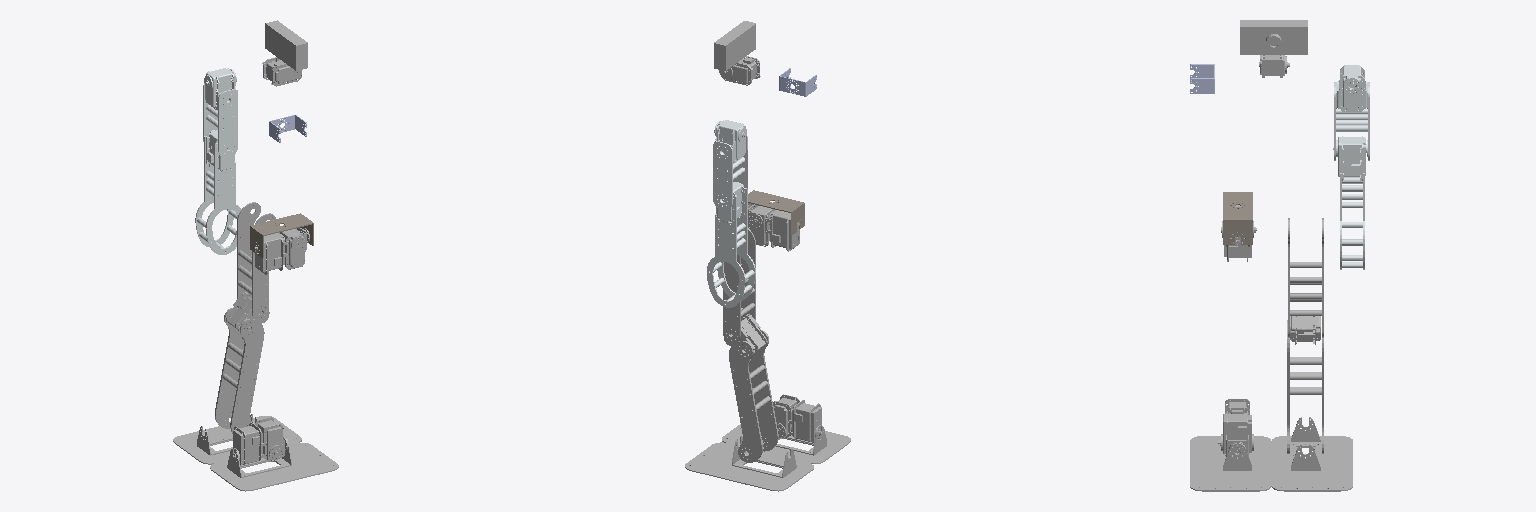
--- What the picture shows (computed from the rendered views, not written in the file) ---
3 views of the same robot in one strip: view 1: azimuth 30°, elevation 25°; view 2: azimuth 150°, elevation 25°; view 3: azimuth 270°, elevation 25° (orthographic).
Robot: SAKURA — 21 links, 20 joints (19 continuous, 1 fixed); root link base_link; default pose: every joint at zero.
Links seen in each view (by area): view 1: LLEG3, LARM2, RFOOT, LLEG2, LARM1, HEAD, RLEG4, RLEG1, LFOOT, RLEG0, RARM0; view 2: LLEG3, LARM2, LFOOT, LARM1, LLEG2, HEAD, RLEG4, RLEG1, RFOOT, RLEG0, RARM0; view 3: LFOOT, RFOOT, HEAD, LARM2, LARM1, LLEG2, RLEG0, RLEG4, LLEG3, RARM0.
Link boxes in pixels (x1,y1,x2,y2): LLEG3: (215,307,264,433); LARM2: (195,130,241,254); RFOOT: (210,439,338,491); LLEG2: (226,202,275,331); LARM1: (203,68,237,158); HEAD: (262,20,307,86); RLEG4: (232,417,287,465); RLEG1: (254,228,309,274); LFOOT: (173,414,301,464); RLEG0: (250,213,313,257); RARM0: (269,115,306,142); LLEG3: (729,329,778,462); LARM2: (707,182,755,307); LFOOT: (685,436,813,491); LARM1: (713,120,747,210); LLEG2: (723,228,767,352); HEAD: (714,21,760,85); RLEG4: (773,394,822,442); RLEG1: (748,204,799,251); RFOOT: (722,424,850,463); RLEG0: (748,190,804,235); RARM0: (779,68,816,96); LFOOT: (1272,417,1352,491); RFOOT: (1190,436,1271,491); HEAD: (1240,20,1307,77); LARM2: (1333,136,1365,269); LARM1: (1334,65,1369,160); LLEG2: (1288,218,1323,344); RLEG0: (1223,192,1252,244); RLEG4: (1218,399,1253,457); LLEG3: (1287,320,1323,453); RARM0: (1190,64,1214,93).
Bounding box of the posed robot: 0.208 × 0.291 × 0.8159 m (x, y, z).
Meshes: 20 distinct files referenced, 11 mesh visuals loaded (11 binary STL); not drawn: 9 (reference not matched to a file when rendering).

URDF robot description (SAKURA):
<?xml version="1.0"?>
<robot
  name="SAKURA">
  <gazebo>
    <plugin filename="libgazebo_ros_control.so" name="gazebo_ros_control">
      <robotNamespace>/SAKURA</robotNamespace>
    </plugin>
  </gazebo>
  <gazebo reference="J_HEAD">
	<stopErp>0.2</stopErp>
  </gazebo>  
  <gazebo reference="J_LARM0">
	<stopErp>0.2</stopErp>
  </gazebo>  
  <gazebo reference="J_LARM1">
	<stopErp>0.2</stopErp>
  </gazebo>  
  <gazebo reference="J_LARM2">
	<stopErp>0.2</stopErp>
  </gazebo>  
  <gazebo reference="J_RARM0">
	<stopErp>0.2</stopErp>
  </gazebo>  
  <gazebo reference="J_RARM1">
	<stopErp>0.2</stopErp>
  </gazebo>  
  <gazebo reference="J_LLEG0">
	<stopErp>0.2</stopErp>
  </gazebo>  
  <gazebo reference="J_LLEG1">
	<stopErp>0.2</stopErp>
  </gazebo>  
  <gazebo reference="J_LLEG2">
	<stopErp>0.2</stopErp>
  </gazebo>  
  <gazebo reference="J_LLEG3">
	<stopErp>0.2</stopErp>
  </gazebo>  
  <gazebo reference="J_LLEG4">
	<stopErp>0.2</stopErp>
  </gazebo>  
  <gazebo reference="J_RLEG0">
	<stopErp>0.2</stopErp>
  </gazebo>  
  <gazebo reference="J_RLEG1">
	<stopErp>0.2</stopErp>
  </gazebo>  
  <gazebo reference="J_RLEG2">
	<stopErp>0.2</stopErp>
  </gazebo>  
  <gazebo reference="J_RLEG3">
	<stopErp>0.2</stopErp>
  </gazebo>  
  <gazebo reference="J_RLEG4">
	<stopErp>0.2</stopErp>
  </gazebo> 
  <gazebo reference="J_RARM2">
	<stopErp>0.2</stopErp>
  </gazebo> 
  <gazebo reference="J_LFOOT">
	<stopErp>0.2</stopErp>
  </gazebo>  
  <gazebo reference="J_RFOOT">
	<stopErp>0.2</stopErp>
  </gazebo>  
  <gazebo reference="RFOOT">
    <mu1>0.2</mu1>
    <mu2>0.2</mu2>
  </gazebo>
  <gazebo reference="LFOOT">
    <mu1>0.2</mu1>
    <mu2>0.2</mu2>
  </gazebo>
  <link name="base_link">
      <origin
        xyz="0 0 0"
        rpy="0 0 0" />
  </link>
  <link
    name="TRUNK">
    <inertial>
      <origin
        xyz="-0.000142944293532541 -0.0159940135836359 0.119253638413231"
        rpy="0 0 0" />
      <mass
        value="1.4778155091901" />
      <inertia
        ixx="0.0125398154437975"
        ixy="-2.68478156217668E-06"
        ixz="-7.17353402812125E-06"
        iyy="0.016695640033345"
        iyz="0.000776177026664091"
        izz="0.01567882258573842" />
    </inertial>
    <visual>
      <origin
        xyz="0 0 0"
        rpy="0 0 0" />
      <geometry>
        <mesh
          filename="package://sakura_pkg/meshes/TRUNK.STL" />
      </geometry>
      <material
        name="">
        <color
          rgba="0.752941176470588 0.752941176470588 0.752941176470588 1" />
      </material>
    </visual>
  </link>
	<joint name="GLOBAL" type="fixed">
    <parent link="base_link"/>
    <child link="TRUNK"/>
    <origin xyz="0.039 0.03435 0.48" rpy="0 0 -1.570795"/>
  </joint>
  <link
    name="HEAD">
    <inertial>
      <origin
        xyz="-0.0038811 0.012249 0.048965"
        rpy="0 0 0" />
      <mass
        value="0.21462" />
      <inertia
        ixx="0.00010122"
        ixy="8.917E-07"
        ixz="4.6738E-06"
        iyy="9.789E-05"
        iyz="-1.8633E-05"
        izz="3.7787E-06" />
    </inertial>
    <visual>
      <origin
        xyz="0 0 0"
        rpy="0 0 0" />
      <geometry>
        <mesh
          filename="package://sakura_pkg/meshes/HEAD.STL" />
      </geometry>
      <material
        name="">
        <color
          rgba="0.75294 0.75294 0.75294 1" />
      </material>
    </visual>
    <collision>
      <origin
        xyz="0 0 0"
        rpy="0 0 0" />
      <geometry>
        <mesh
          filename="package://sakura_pkg/meshes/HEAD.STL" />
      </geometry>
    </collision>
  </link>
  <joint
    name="J_HEAD"
    type="continuous">
    <origin
      xyz="0.0016 0.01125 0.2484"
      rpy="-1.2005E-15 -9.4278E-17 -2.3904E-16" />
    <parent
      link="TRUNK" />
    <child
      link="HEAD" />
    <axis
      xyz="0 0 1" />
    <limit
      effort="0"
      velocity="0" />
  </joint>
  <link
    name="LARM0">
    <inertial>
      <origin
        xyz="4.16333634234434E-17 2.77555756156289E-17 0.0103025666414173"
        rpy="0 0 0" />
      <mass
        value="0.0066175226097181" />
      <inertia
        ixx="0"
        ixy="0"
        ixz="0"
        iyy="0"
        iyz="0"
        izz="0" />
    </inertial>
    <visual>
      <origin
        xyz="0 0 0"
        rpy="0 0 0" />
      <geometry>
        <mesh
          filename="package://sakura_pkg/meshes/LARM0.STL" />
      </geometry>
      <material
        name="">
        <color
          rgba="0.792156862745098 0.819607843137255 0.933333333333333 1" />
      </material>
    </visual>
    <collision>
      <origin
        xyz="0 0 0"
        rpy="0 0 0" />
      <geometry>
        <mesh
          filename="package://sakura_pkg/meshes/LARM0.STL" />
      </geometry>
    </collision>
  </link>
  <joint
    name="J_LARM0"
    type="continuous">
    <origin
      xyz="-0.0935 -0.038 0.209"
      rpy="1.5708 3.14159 -1.5708" />
    <parent
      link="TRUNK" />
    <child
      link="LARM0" />
    <axis
      xyz="0 0 -1" />
    <limit
      effort="0"
      velocity="0" />
  </joint>
  <link
    name="LARM1">
    <inertial>
      <origin
        xyz="-0.000203905909046856 -0.0358166170046635 -0.030724518771744"
        rpy="0 0 0" />
      <mass
        value="0.386889741732442" />
      <inertia
        ixx="0.000319462933467775"
        ixy="-7.00859671208955E-06"
        ixz="-6.33921748509821E-09"
        iyy="8.0452262350149E-05"
        iyz="6.46973244600118E-07"
        izz="0.000386423060557297" />
    </inertial>
    <visual>
      <origin
        xyz="0 0 0"
        rpy="0 0 0" />
      <geometry>
        <mesh
          filename="package://sakura_pkg/meshes/LARM1.STL" />
      </geometry>
      <material
        name="">
        <color
          rgba="0.898039215686275 0.92156862745098 0.929411764705882 1" />
      </material>
    </visual>
    <collision>
      <origin
        xyz="0 0 0"
        rpy="0 0 0" />
      <geometry>
        <mesh
          filename="package://sakura_pkg/meshes/LARM1.STL" />
      </geometry>
    </collision>
  </link>
  <joint
    name="J_LARM1"
    type="continuous">
    <origin
      xyz="-0.0308 0 0.036"
      rpy="3.1416 1.5708 0" />
    <parent
      link="LARM0" />
    <child
      link="LARM1" />
    <axis
      xyz="0 0 1" />
    <limit
      effort="0"
      velocity="0" />
  </joint>
  <link
    name="LARM2">
    <inertial>
      <origin
        xyz="-0.000946892853796732 -0.0604743903550126 -0.030549305382329"
        rpy="0 0 0" />
      <mass
        value="0.417770884687889" />
      <inertia
        ixx="0.00130365609096481"
        ixy="-2.20058971275383E-05"
        ixz="-1.13235654810576E-07"
        iyy="7.40162277479168E-05"
        iyz="-4.76741794550902E-06"
        izz="0.00130522583526536" />
    </inertial>
    <visual>
      <origin
        xyz="0 0 0"
        rpy="0 0 0" />
      <geometry>
        <mesh
          filename="package://sakura_pkg/meshes/LARM2.STL" />
      </geometry>
      <material
        name="">
        <color
          rgba="0.898039215686275 0.92156862745098 0.929411764705882 1" />
      </material>
    </visual>
    <collision>
      <origin
        xyz="0 0 0"
        rpy="0 0 0" />
      <geometry>
        <mesh
          filename="package://sakura_pkg/meshes/LARM2.STL" />
      </geometry>
    </collision>
  </link>
  <joint
    name="J_LARM2"
    type="continuous">
    <origin
      xyz="0.0307 -0.1235 -0.0308"
      rpy="0 1.5708 0" />
    <parent
      link="LARM1" />
    <child
      link="LARM2" />
    <axis
      xyz="0 0 1" />
    <limit
      effort="0"
      velocity="0" />
  </joint>
  <link
    name="RARM0">
    <inertial>
      <origin
        xyz="-4.16333634234434E-17 0 0.0103025666414173"
        rpy="0 0 0" />
      <mass
        value="0.00661752260971814" />
      <inertia
        ixx="0"
        ixy="0"
        ixz="0"
        iyy="0"
        iyz="0"
        izz="0" />
    </inertial>
    <visual>
      <origin
        xyz="0 0 0"
        rpy="0 0 0" />
      <geometry>
        <mesh
          filename="package://sakura_pkg/meshes/RARM0.STL" />
      </geometry>
      <material
        name="">
        <color
          rgba="0.792156862745098 0.819607843137255 0.933333333333333 1" />
      </material>
    </visual>
    <collision>
      <origin
        xyz="0 0 0"
        rpy="0 0 0" />
      <geometry>
        <mesh
          filename="package://sakura_pkg/meshes/RARM0.STL" />
      </geometry>
    </collision>
  </link>
  <joint
    name="J_RARM0"
    type="continuous">
    <origin
      xyz="0.0935 -0.038 0.209"
      rpy="-1.5708 -6.1121E-16 -1.5708" />
    <parent
      link="TRUNK" />
    <child
      link="RARM0" />
    <axis
      xyz="0 0 1" />
    <limit
      effort="0"
      velocity="0" />
  </joint>
  <link
    name="RARM1">
    <inertial>
      <origin
        xyz="-0.00020391 -0.035817 -0.030725"
        rpy="0 0 0" />
      <mass
        value="0.38689" />
      <inertia
        ixx="0.00031946"
        ixy="-7.0086E-06"
        ixz="-6.3392E-09"
        iyy="8.0452E-05"
        iyz="6.4697E-07"
        izz="0.00038642" />
    </inertial>
    <visual>
      <origin
        xyz="0 0 0"
        rpy="0 0 0" />
      <geometry>
        <mesh
          filename="package://sakura_pkg/meshes/RARM1.STL" />
      </geometry>
      <material
        name="">
        <color
          rgba="0.89804 0.92157 0.92941 1" />
      </material>
    </visual>
    <collision>
      <origin
        xyz="0 0 0"
        rpy="0 0 0" />
      <geometry>
        <mesh
          filename="package://sakura_pkg/meshes/RARM1.STL" />
      </geometry>
    </collision>
  </link>
  <joint
    name="J_RARM1"
    type="continuous">
    <origin
      xyz="-0.0308 0 0.036"
      rpy="3.1416 1.5708 0" />
    <parent
      link="RARM0" />
    <child
      link="RARM1" />
    <axis
      xyz="0 0 1" />
    <limit
      effort="0"
      velocity="0" />
  </joint>
  <link
    name="RARM2">
    <inertial>
      <origin
        xyz="-0.000946892853796774 -0.0604743903550127 -0.0305493053823289"
        rpy="0 0 0" />
      <mass
        value="0.417770884687889" />
      <inertia
        ixx="0.00130365609096481"
        ixy="-2.20058971275389E-05"
        ixz="-1.13235654810633E-07"
        iyy="7.40162277479169E-05"
        iyz="-4.76741794550966E-06"
        izz="0.00130522583526536" />
    </inertial>
    <visual>
      <origin
        xyz="0 0 0"
        rpy="0 0 0" />
      <geometry>
        <mesh
          filename="package://sakura_pkg/meshes/RARM2.STL" />
      </geometry>
      <material
        name="">
        <color
          rgba="0.898039215686275 0.92156862745098 0.929411764705882 1" />
      </material>
    </visual>
    <collision>
      <origin
        xyz="0 0 0"
        rpy="0 0 0" />
      <geometry>
        <mesh
          filename="package://sakura_pkg/meshes/RARM2.STL" />
      </geometry>
    </collision>
  </link>
  <joint
    name="J_RARM2"
    type="continuous">
    <origin
      xyz="0.0307 -0.1235 -0.0308"
      rpy="0 1.5708 0" />
    <parent
      link="RARM1" />
    <child
      link="RARM2" />
    <axis
      xyz="0 0 -1" />
    <limit
      effort="0"
      velocity="0" />
  </joint>
  <link
    name="LLEG0">
    <inertial>
      <origin
        xyz="1.38777878078145E-17 1.38777878078145E-17 0.012339611662812"
        rpy="0 0 0" />
      <mass
        value="0.137487098095279" />
      <inertia
        ixx="0"
        ixy="0"
        ixz="0"
        iyy="0"
        iyz="0"
        izz="0" />
    </inertial>
    <visual>
      <origin
        xyz="0 0 0"
        rpy="0 0 0" />
      <geometry>
        <mesh
          filename="package://sakura_pkg/meshes/LLEG0.STL" />
      </geometry>
      <material
        name="">
        <color
          rgba="0.650980392156863 0.619607843137255 0.588235294117647 1" />
      </material>
    </visual>
    <collision>
      <origin
        xyz="0 0 0"
        rpy="0 0 0" />
      <geometry>
        <mesh
          filename="package://sakura_pkg/meshes/LLEG0.STL" />
      </geometry>
    </collision>
  </link>
  <joint
    name="J_LLEG0"
    type="continuous">
    <origin
      xyz="-0.055 -0.018 -0.005"
      rpy="-3.14159265358979 1.21430643318376E-16 -1.5707963267949" />
    <parent
      link="TRUNK" />
    <child
      link="LLEG0" />
    <axis
      xyz="0 0 -1" />
  </joint>
  <link
    name="LLEG1">
    <inertial>
      <origin
        xyz="-4.90216563097182E-05 -0.014933566350856 -0.0542307430726147"
        rpy="0 0 0" />
      <mass
        value="0.484317524341268" />
      <inertia
        ixx="0.000258532465487086"
        ixy="-1.08430216395215E-08"
        ixz="-4.93107012410751E-07"
        iyy="0.000256538006237082"
        iyz="8.86337248194806E-06"
        izz="4.00980160512074E-06" />
    </inertial>
    <visual>
      <origin
        xyz="0 0 0"
        rpy="0 0 0" />
      <geometry>
        <mesh
          filename="package://sakura_pkg/meshes/LLEG1.STL" />
      </geometry>
      <material
        name="">
        <color
          rgba="0.752941176470588 0.752941176470588 0.752941176470588 1" />
      </material>
    </visual>
    <collision>
      <origin
        xyz="0 0 0"
        rpy="0 0 0" />
      <geometry>
        <mesh
          filename="package://sakura_pkg/meshes/LLEG1.STL" />
      </geometry>
    </collision>
  </link>
  <joint
    name="J_LLEG1"
    type="continuous">
    <origin
      xyz="0.056 0 0.036"
      rpy="-1.5707963267949 -1.22338662637834E-16 -1.5707963267949" />
    <parent
      link="LLEG0" />
    <child
      link="LLEG1" />
    <axis
      xyz="0 0 -1" />
  </joint>
  <link
    name="LLEG2">
    <inertial>
      <origin
        xyz="0.0896135033902749 -0.121669815792639 -0.0285739776731877"
        rpy="0 0 0" />
      <mass
        value="0.429581814867276" />
      <inertia
        ixx="0.000739443276879588"
        ixy="0.000469298592224479"
        ixz="-4.17657698668898E-06"
        iyy="0.00045781924000273"
        iyz="4.49877955818474E-06"
        izz="0.00100793675092908" />
    </inertial>
    <visual>
      <origin
        xyz="0 0 0"
        rpy="0 0 0" />
      <geometry>
        <mesh
          filename="package://sakura_pkg/meshes/LLEG2.STL" />
      </geometry>
      <material
        name="">
        <color
          rgba="0.752941176470588 0.752941176470588 0.752941176470588 1" />
      </material>
    </visual>
    <collision>
      <origin
        xyz="0 0 0"
        rpy="0 0 0" />
      <geometry>
        <mesh
          filename="package://sakura_pkg/meshes/LLEG2.STL" />
      </geometry>
    </collision>
  </link>
  <joint
    name="J_LLEG2"
    type="continuous">
    <origin
      xyz="0.0289999999999999 0 -0.0750000000000234"
      rpy="-1.5707963267949 0.78539816339745 -1.5707963267949" />
    <parent
      link="LLEG1" />
    <child
      link="LLEG2" />
    <axis
      xyz="0 0 1" />
  </joint>
  <link
    name="LLEG3">
    <inertial>
      <origin
        xyz="0.0938607247050214 0.021121469241447 -0.0266864244548486"
        rpy="0 0 0" />
      <mass
        value="0.253457988874213" />
      <inertia
        ixx="0.000157893827081503"
        ixy="4.33507693026071E-06"
        ixz="2.38137513758817E-06"
        iyy="0.000215254509125973"
        iyz="4.49605098935315E-06"
        izz="7.90936329999813E-05" />
    </inertial>
    <visual>
      <origin
        xyz="0 0 0"
        rpy="0 0 0" />
      <geometry>
        <mesh
          filename="package://sakura_pkg/meshes/LLEG3.STL" />
      </geometry>
      <material
        name="">
        <color
          rgba="0.752941176470588 0.752941176470588 0.752941176470588 1" />
      </material>
    </visual>
    <collision>
      <origin
        xyz="0 0 0"
        rpy="0 0 0" />
      <geometry>
        <mesh
          filename="package://sakura_pkg/meshes/LLEG3.STL" />
      </geometry>
    </collision>
  </link>
  <joint
    name="J_LLEG3"
    type="continuous">
    <origin
      xyz="0.112429978208667 -0.169643181644254 0.00160000000000024"
      rpy="-0.0320557226319531 0.0283578707512148 -1.01721646459287" />
    <parent
      link="LLEG2" />
    <child
      link="LLEG3" />
    <axis
      xyz="0.0283540701513945 0.0320373469653184 -0.999084408398647" />
  </joint>
  <link
    name="LLEG4">
    <inertial>
      <origin
        xyz="0.0207692569273853 -0.0149335663508559 -0.0309509783436903"
        rpy="0 0 0" />
      <mass
        value="0.484317524341267" />
      <inertia
        ixx="4.00980160512071E-06"
        ixy="8.86337248194725E-06"
        ixz="4.93107012410836E-07"
        iyy="0.000256538006237082"
        iyz="1.08430216395228E-08"
        izz="0.000258532465487085" />
    </inertial>
    <visual>
      <origin
        xyz="0 0 0"
        rpy="0 0 0" />
      <geometry>
        <mesh
          filename="package://sakura_pkg/meshes/LLEG4.STL" />
      </geometry>
      <material
        name="">
        <color
          rgba="0.752941176470588 0.752941176470588 0.752941176470588 1" />
      </material>
    </visual>
    <collision>
      <origin
        xyz="0 0 0"
        rpy="0 0 0" />
      <geometry>
        <mesh
          filename="package://sakura_pkg/meshes/LLEG4.STL" />
      </geometry>
    </collision>
  </link>
  <joint
    name="J_LLEG4"
    type="continuous">
    <origin
      xyz="0.19759 0.040682 0.007913"
      rpy="0.034963 0.024684 -1.339" />
    <parent
      link="LLEG3" />
    <child
      link="LLEG4" />
    <axis
      xyz="0 0 1" />
    <limit
      effort="0"
      velocity="0" />
  </joint>
  <link
    name="LFOOT">
    <inertial>
      <origin
        xyz="-0.00984398078216434 0.033081446163245 0.0742424926896279"
        rpy="0 0 0" />
      <mass
        value="0.474832547151362" />
      <inertia
        ixx="5.51319710395952E-05"
        ixy="8.95545085142721E-06"
        ixz="2.1883900378474E-05"
        iyy="5.73648543375659E-05"
        iyz="-1.93251189181957E-05"
        izz="1.80495475741546E-05" />
    </inertial>
    <visual>
      <origin
        xyz="0 0 0"
        rpy="0 0 0" />
      <geometry>
        <mesh
          filename="package://sakura_pkg/meshes/LFOOT.STL" />
      </geometry>
      <material
        name="">
        <color
          rgba="0.752941176470588 0.752941176470588 0.752941176470588 1" />
      </material>
    </visual>
    <collision>
      <origin
        xyz="0 0 0"
        rpy="0 0 0" />
      <geometry>
        <mesh
          filename="package://sakura_pkg/meshes/LFOOT.STL" />
      </geometry>
    </collision>
  </link>
  <joint
    name="J_LFOOT"
    type="continuous">
    <origin
      xyz="0.072 0 -0.031"
      rpy="0 -1.5708 0" />
    <parent
      link="LLEG4" />
    <child
      link="LFOOT" />
    <axis
      xyz="0 0 -1" />
    <limit
      effort="0"
      velocity="0" />
  </joint>
  <link
    name="RLEG0">
    <inertial>
      <origin
        xyz="0 1.38777878078145E-17 0.012339611662812"
        rpy="0 0 0" />
      <mass
        value="0.137487098095279" />
      <inertia
        ixx="0"
        ixy="0"
        ixz="0"
        iyy="0"
        iyz="0"
        izz="0" />
    </inertial>
    <visual>
      <origin
        xyz="0 0 0"
        rpy="0 0 0" />
      <geometry>
        <mesh
          filename="package://sakura_pkg/meshes/RLEG0.STL" />
      </geometry>
      <material
        name="">
        <color
          rgba="0.650980392156863 0.619607843137255 0.588235294117647 1" />
      </material>
    </visual>
    <collision>
      <origin
        xyz="0 0 0"
        rpy="0 0 0" />
      <geometry>
        <mesh
          filename="package://sakura_pkg/meshes/RLEG0.STL" />
      </geometry>
    </collision>
  </link>
  <joint
    name="J_RLEG0"
    type="continuous">
    <origin
      xyz="0.055 -0.018 -0.005"
      rpy="-3.14159265358979 1.21430643318376E-16 -1.5707963267949" />
    <parent
      link="TRUNK" />
    <child
      link="RLEG0" />
    <axis
      xyz="0 0 1" />
  </joint>
  <link
    name="RLEG1">
    <inertial>
      <origin
        xyz="-4.9022E-05 -0.014934 -0.054231"
        rpy="0 0 0" />
      <mass
        value="0.48432" />
      <inertia
        ixx="0.00025853"
        ixy="-1.0843E-08"
        ixz="-4.9311E-07"
        iyy="0.00025654"
        iyz="8.8634E-06"
        izz="4.0098E-06" />
    </inertial>
    <visual>
      <origin
        xyz="0 0 0"
        rpy="0 0 0" />
      <geometry>
        <mesh
          filename="package://sakura_pkg/meshes/RLEG1.STL" />
      </geometry>
      <material
        name="">
        <color
          rgba="0.75294 0.75294 0.75294 1" />
      </material>
    </visual>
    <collision>
      <origin
        xyz="0 0 0"
        rpy="0 0 0" />
      <geometry>
        <mesh
          filename="package://sakura_pkg/meshes/RLEG1.STL" />
      </geometry>
    </collision>
  </link>
  <joint
    name="J_RLEG1"
    type="continuous">
    <origin
      xyz="0.056 0 0.036"
      rpy="-1.5707963267949 2.66239395980971E-16 -1.5707963267949" />
    <parent
      link="RLEG0" />
    <child
      link="RLEG1" />
    <axis
      xyz="0 0 1" />
  </joint>
  <link
    name="RLEG2">
    <inertial>
      <origin
        xyz="0.089613503390275 -0.121669815792639 -0.0285739776731877"
        rpy="0 0 0" />
      <mass
        value="0.429581814867276" />
      <inertia
        ixx="0.000739443276879589"
        ixy="0.00046929859222448"
        ixz="-4.17657698668821E-06"
        iyy="0.000457819240002731"
        iyz="4.49877955818371E-06"
        izz="0.00100793675092908" />
    </inertial>
    <visual>
      <origin
        xyz="0 0 0"
        rpy="0 0 0" />
      <geometry>
        <mesh
          filename="package://sakura_pkg/meshes/RLEG2.STL" />
      </geometry>
      <material
        name="">
        <color
          rgba="0.752941176470588 0.752941176470588 0.752941176470588 1" />
      </material>
    </visual>
    <collision>
      <origin
        xyz="0 0 0"
        rpy="0 0 0" />
      <geometry>
        <mesh
          filename="package://sakura_pkg/meshes/RLEG2.STL" />
      </geometry>
    </collision>
  </link>
  <joint
    name="J_RLEG2"
    type="continuous">
    <origin
      xyz="0.0290000000000001 0 -0.075"
      rpy="-1.5707963267949 0.78539816339745 -1.5707963267949" />
    <parent
      link="RLEG1" />
    <child
      link="RLEG2" />
    <axis
      xyz="0 0 1" />
  </joint>
  <link
    name="RLEG3">
    <inertial>
      <origin
        xyz="0.093861 0.021121 -0.026686"
        rpy="0 0 0" />
      <mass
        value="0.25346" />
      <inertia
        ixx="0.00015789"
        ixy="4.3351E-06"
        ixz="2.3814E-06"
        iyy="0.00021525"
        iyz="4.4961E-06"
        izz="7.9094E-05" />
    </inertial>
    <visual>
      <origin
        xyz="0 0 0"
        rpy="0 0 0" />
      <geometry>
        <mesh
          filename="package://sakura_pkg/meshes/RLEG3.STL" />
      </geometry>
      <material
        name="">
        <color
          rgba="0.75294 0.75294 0.75294 1" />
      </material>
    </visual>
    <collision>
      <origin
        xyz="0 0 0"
        rpy="0 0 0" />
      <geometry>
        <mesh
          filename="package://sakura_pkg/meshes/RLEG3.STL" />
      </geometry>
    </collision>
  </link>
  <joint
    name="J_RLEG3"
    type="continuous">
    <origin
      xyz="0.112429978208668 -0.169643181644253 0.00160000000000014"
      rpy="-0.0320557226319534 0.0283578707512146 -1.01721646459286" />
    <parent
      link="RLEG2" />
    <child
      link="RLEG3" />
    <axis
      xyz="0.0283540701513948 0.0320373469653193 -0.999084408398647" />
  </joint>
  <link
    name="RLEG4">
    <inertial>
      <origin
        xyz="0.0207692569273853 -0.014933566350856 -0.0309509783436903"
        rpy="0 0 0" />
      <mass
        value="0.484317524341268" />
      <inertia
        ixx="4.00980160512071E-06"
        ixy="8.86337248194835E-06"
        ixz="4.93107012410999E-07"
        iyy="0.000256538006237082"
        iyz="1.08430216395282E-08"
        izz="0.000258532465487085" />
    </inertial>
    <visual>
      <origin
        xyz="0 0 0"
        rpy="0 0 0" />
      <geometry>
        <mesh
          filename="package://sakura_pkg/meshes/RLEG4.STL" />
      </geometry>
      <material
        name="">
        <color
          rgba="0.752941176470588 0.752941176470588 0.752941176470588 1" />
      </material>
    </visual>
    <collision>
      <origin
        xyz="0 0 0"
        rpy="0 0 0" />
      <geometry>
        <mesh
          filename="package://sakura_pkg/meshes/RLEG4.STL" />
      </geometry>
    </collision>
  </link>
  <joint
    name="J_RLEG4"
    type="continuous">
    <origin
      xyz="0.19759 0.040682 0.007913"
      rpy="0.034963 0.024684 -1.339" />
    <parent
      link="RLEG3" />
    <child
      link="RLEG4" />
    <axis
      xyz="0 0 1" />
    <limit
      effort="0"
      velocity="0" />
  </joint>
  <link
    name="RFOOT">
    <inertial>
      <origin
        xyz="0.009844 0.033081 0.074242"
        rpy="0 0 0" />
      <mass
        value="0.47483" />
      <inertia
        ixx="5.5132E-05"
        ixy="-8.9555E-06"
        ixz="-2.1884E-05"
        iyy="5.7365E-05"
        iyz="-1.9325E-05"
        izz="1.805E-05" />
    </inertial>
    <visual>
      <origin
        xyz="0 0 0"
        rpy="0 0 0" />
      <geometry>
        <mesh
          filename="package://sakura_pkg/meshes/RFOOT.STL" />
      </geometry>
      <material
        name="">
        <color
          rgba="0.75294 0.75294 0.75294 1" />
      </material>
    </visual>
    <collision>
      <origin
        xyz="0 0 0"
        rpy="0 0 0" />
      <geometry>
        <mesh
          filename="package://sakura_pkg/meshes/RFOOT.STL" />
      </geometry>
    </collision>
  </link>
  <joint
    name="J_RFOOT"
    type="continuous">
    <origin
      xyz="0.072 0 -0.031"
      rpy="0 -1.5708 0" />
    <parent
      link="RLEG4" />
    <child
      link="RFOOT" />
    <axis
      xyz="0 0 -1" />
    <limit
      effort="0"
      velocity="0" />
  </joint>  
  <transmission name="T_RARM0">
	<type>transmission_interface/SimpleTransmission</type>
	<joint name="J_RARM0">
	  <hardwareInterface>hardware_interface/EffortJointInterface</hardwareInterface>
	</joint>
	<actuator name="M_RARM0">
	  <hardwareInterface>hardware_interface/EffortJointInterface</hardwareInterface>
	  <mechanicalReduction>1</mechanicalReduction>
	</actuator>
  </transmission>

  <transmission name="T_RARM1">
	<type>transmission_interface/SimpleTransmission</type>
	<joint name="J_RARM1">
	  <hardwareInterface>hardware_interface/EffortJointInterface</hardwareInterface>
	</joint>
	<actuator name="M_RARM1">
	  <hardwareInterface>hardware_interface/EffortJointInterface</hardwareInterface>
	  <mechanicalReduction>1</mechanicalReduction>
	</actuator>
  </transmission>
  
    <transmission name="T_RARM2">
	<type>transmission_interface/SimpleTransmission</type>
	<joint name="J_RARM2">
	  <hardwareInterface>hardware_interface/EffortJointInterface</hardwareInterface>
	</joint>
	<actuator name="M_RARM2">
	  <hardwareInterface>hardware_interface/EffortJointInterface</hardwareInterface>
	  <mechanicalReduction>1</mechanicalReduction>
	</actuator>
  </transmission>
  
    <transmission name="T_LARM0">
	<type>transmission_interface/SimpleTransmission</type>
	<joint name="J_LARM0">
	  <hardwareInterface>hardware_interface/EffortJointInterface</hardwareInterface>
	</joint>
	<actuator name="M_LARM0">
	  <hardwareInterface>hardware_interface/EffortJointInterface</hardwareInterface>
	  <mechanicalReduction>1</mechanicalReduction>
	</actuator>
  </transmission>

  <transmission name="T_LARM1">
	<type>transmission_interface/SimpleTransmission</type>
	<joint name="J_LARM1">
	  <hardwareInterface>hardware_interface/EffortJointInterface</hardwareInterface>
	</joint>
	<actuator name="M_LARM1">
	  <hardwareInterface>hardware_interface/EffortJointInterface</hardwareInterface>
	  <mechanicalReduction>1</mechanicalReduction>
	</actuator>
  </transmission>
  
    <transmission name="T_LARM2">
	<type>transmission_interface/SimpleTransmission</type>
	<joint name="J_LARM2">
	  <hardwareInterface>hardware_interface/EffortJointInterface</hardwareInterface>
	</joint>
	<actuator name="M_LARM2">
	  <hardwareInterface>hardware_interface/EffortJointInterface</hardwareInterface>
	  <mechanicalReduction>1</mechanicalReduction>
	</actuator>
  </transmission>

  
  
  
    <transmission name="T_RLEG0">
	<type>transmission_interface/SimpleTransmission</type>
	<joint name="J_RLEG0">
	  <hardwareInterface>hardware_interface/EffortJointInterface</hardwareInterface>
	</joint>
	<actuator name="M_RLEG0">
	  <hardwareInterface>hardware_interface/EffortJointInterface</hardwareInterface>
	  <mechanicalReduction>1</mechanicalReduction>
	</actuator>
  </transmission>

  <transmission name="T_RLEG1">
	<type>transmission_interface/SimpleTransmission</type>
	<joint name="J_RLEG1">
	  <hardwareInterface>hardware_interface/EffortJointInterface</hardwareInterface>
	</joint>
	<actuator name="M_RLEG1">
	  <hardwareInterface>hardware_interface/EffortJointInterface</hardwareInterface>
	  <mechanicalReduction>1</mechanicalReduction>
	</actuator>
  </transmission>
  
    <transmission name="T_RLEG2">
	<type>transmission_interface/SimpleTransmission</type>
	<joint name="J_RLEG2">
	  <hardwareInterface>hardware_interface/EffortJointInterface</hardwareInterface>
	</joint>
	<actuator name="M_RLEG2">
	  <hardwareInterface>hardware_interface/EffortJointInterface</hardwareInterface>
	  <mechanicalReduction>1</mechanicalReduction>
	</actuator>
  </transmission>
  
    <transmission name="T_RLEG3">
	<type>transmission_interface/SimpleTransmission</type>
	<joint name="J_RLEG3">
	  <hardwareInterface>hardware_interface/EffortJointInterface</hardwareInterface>
	</joint>
	<actuator name="M_RLEG3">
	  <hardwareInterface>hardware_interface/EffortJointInterface</hardwareInterface>
	  <mechanicalReduction>1</mechanicalReduction>
	</actuator>
  </transmission>
  
   <transmission name="T_RLEG4">
	<type>transmission_interface/SimpleTransmission</type>
	<joint name="J_RLEG4">
	  <hardwareInterface>hardware_interface/EffortJointInterface</hardwareInterface>
	</joint>
	<actuator name="M_RLEG4">
	  <hardwareInterface>hardware_interface/EffortJointInterface</hardwareInterface>
	  <mechanicalReduction>1</mechanicalReduction>
	</actuator>
  </transmission>
  
  <transmission name="T_RFOOT">
	<type>transmission_interface/SimpleTransmission</type>
	<joint name="J_RFOOT">
	  <hardwareInterface>hardware_interface/EffortJointInterface</hardwareInterface>
	</joint>
	<actuator name="M_RFOOT">
	  <hardwareInterface>hardware_interface/EffortJointInterface</hardwareInterface>
	  <mechanicalReduction>1</mechanicalReduction>
	</actuator>
  </transmission>


    <transmission name="T_LLEG0">
	<type>transmission_interface/SimpleTransmission</type>
	<joint name="J_LLEG0">
	  <hardwareInterface>hardware_interface/EffortJointInterface</hardwareInterface>
	</joint>
	<actuator name="M_LLEG0">
	  <hardwareInterface>hardware_interface/EffortJointInterface</hardwareInterface>
	  <mechanicalReduction>1</mechanicalReduction>
	</actuator>
  </transmission>

  <transmission name="T_LLEG1">
	<type>transmission_interface/SimpleTransmission</type>
	<joint name="J_LLEG1">
	  <hardwareInterface>hardware_interface/EffortJointInterface</hardwareInterface>
	</joint>
	<actuator name="M_LLEG1">
	  <hardwareInterface>hardware_interface/EffortJointInterface</hardwareInterface>
	  <mechanicalReduction>1</mechanicalReduction>
	</actuator>
  </transmission>
  
    <transmission name="T_LLEG2">
	<type>transmission_interface/SimpleTransmission</type>
	<joint name="J_LLEG2">
	  <hardwareInterface>hardware_interface/EffortJointInterface</hardwareInterface>
	</joint>
	<actuator name="M_LLEG2">
	  <hardwareInterface>hardware_interface/EffortJointInterface</hardwareInterface>
	  <mechanicalReduction>1</mechanicalReduction>
	</actuator>
  </transmission>
  
    <transmission name="T_LLEG3">
	<type>transmission_interface/SimpleTransmission</type>
	<joint name="J_LLEG3">
	  <hardwareInterface>hardware_interface/EffortJointInterface</hardwareInterface>
	</joint>
	<actuator name="M_LLEG3">
	  <hardwareInterface>hardware_interface/EffortJointInterface</hardwareInterface>
	  <mechanicalReduction>1</mechanicalReduction>
	</actuator>
  </transmission>
  
   <transmission name="T_LLEG4">
	<type>transmission_interface/SimpleTransmission</type>
	<joint name="J_LLEG4">
	  <hardwareInterface>hardware_interface/EffortJointInterface</hardwareInterface>
	</joint>
	<actuator name="M_LLEG4">
	  <hardwareInterface>hardware_interface/EffortJointInterface</hardwareInterface>
	  <mechanicalReduction>1</mechanicalReduction>
	</actuator>
  </transmission>
  
  <transmission name="T_LFOOT">
	<type>transmission_interface/SimpleTransmission</type>
	<joint name="J_LFOOT">
	  <hardwareInterface>hardware_interface/EffortJointInterface</hardwareInterface>
	</joint>
	<actuator name="M_LFOOT">
	  <hardwareInterface>hardware_interface/EffortJointInterface</hardwareInterface>
	  <mechanicalReduction>1</mechanicalReduction>
	</actuator>
  </transmission>



  
</robot>
